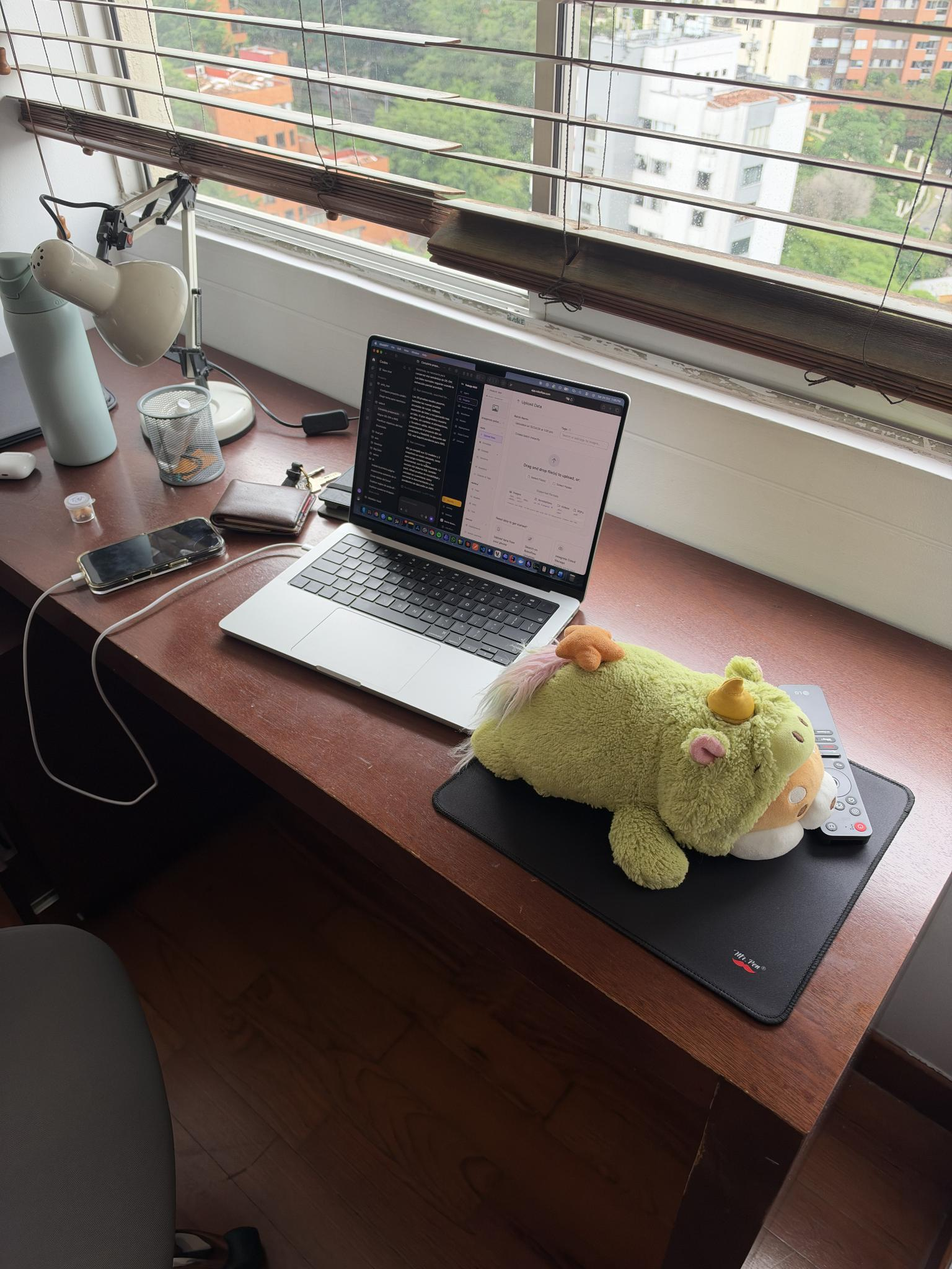peluche_martin: (470, 624, 840, 890)
